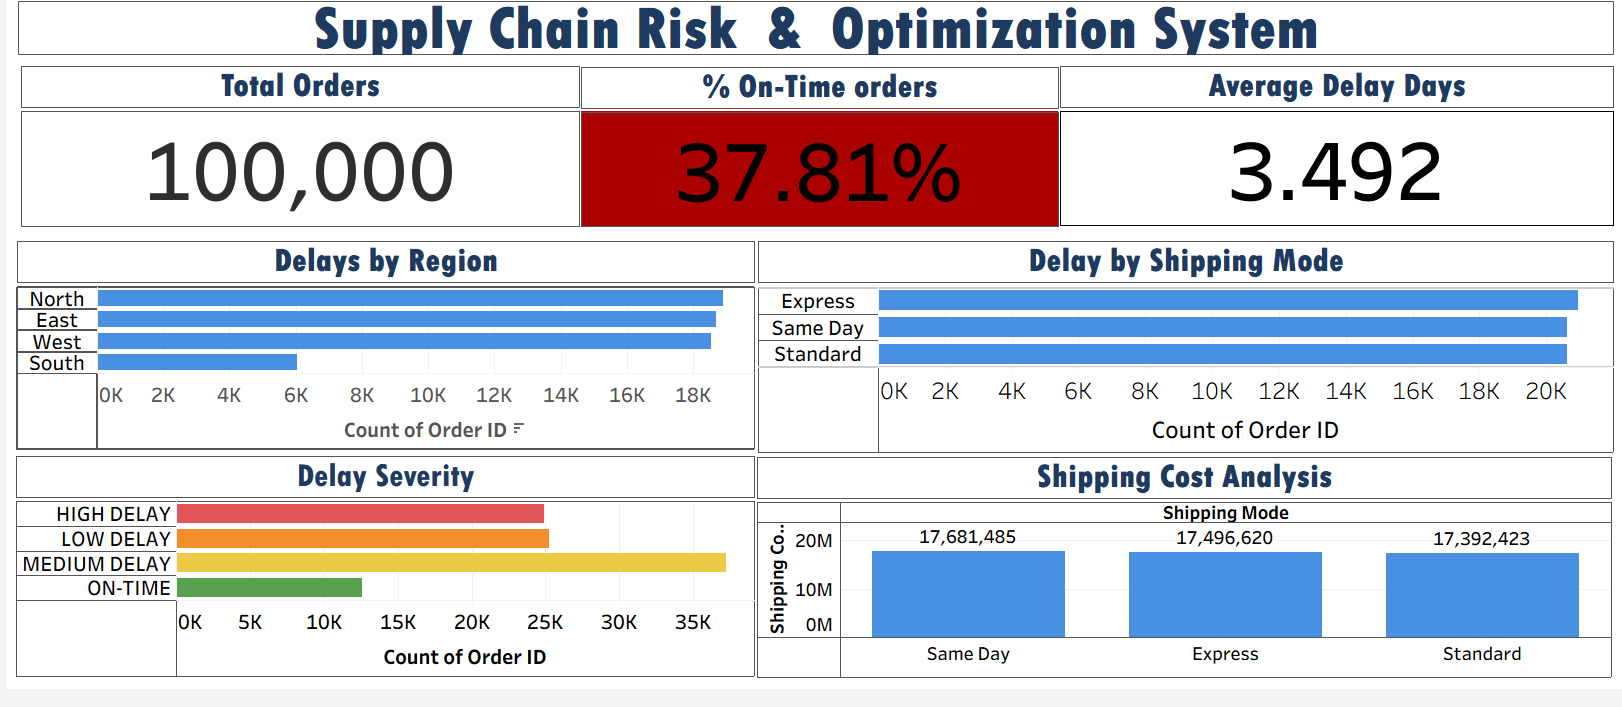

Layout of this report page (visuals, bound fields, positions):
{"tool":"tableau","page":{"name":"Dashboard 1","canvas":[1000,1000],"units":"permille","ordinal":0},"visuals":[{"type":"title","box":[4.9,11.4,990.1,88.6]},{"type":"worksheet","title":"Sheet 1","mark":"Automatic","box":[9.3,110,345.1,231.4]},{"type":"worksheet","title":"Sheet 3","mark":"Automatic","box":[650.6,110,342,230]},{"type":"worksheet","title":"Sheet 2","mark":"Automatic","box":[354.9,111.4,295.1,230]},{"type":"worksheet","title":"Sheet 4","mark":"Automatic","rows":["Region"],"cols":["Order ID"],"box":[6.2,360,456.2,298.6]},{"type":"worksheet","title":"Sheet 5","mark":"Automatic","rows":["Shipping Mode"],"cols":["Order ID"],"box":[463.6,360,529,302.9]},{"type":"worksheet","title":"Sheet 7","mark":"Bar","rows":["Calculation_0806279154237440"],"cols":["Order ID"],"box":[6.2,667.1,456.2,315.7]},{"type":"worksheet","title":"Sheet 6","mark":"Automatic","rows":["Shipping Cost"],"cols":["Shipping Mode"],"box":[463.6,668.6,527.8,315.7]}]}

Visuals, with their boxes on the dashboard's canvas, which has no fixed pixel size, in thousandths of its width and height (x1, y1, x2, y2). These are canvas units, not pixel positions in the 1622x707 screenshot, which may show the page scaled, cropped or inside an application window:
title: box(5, 11, 995, 100)
"Sheet 1" worksheet: box(9, 110, 354, 341)
"Sheet 3" worksheet: box(651, 110, 993, 340)
"Sheet 2" worksheet: box(355, 111, 650, 341)
"Sheet 4" worksheet: box(6, 360, 462, 659)
"Sheet 5" worksheet: box(464, 360, 993, 663)
"Sheet 7" worksheet (Bar marks): box(6, 667, 462, 983)
"Sheet 6" worksheet: box(464, 669, 991, 984)
